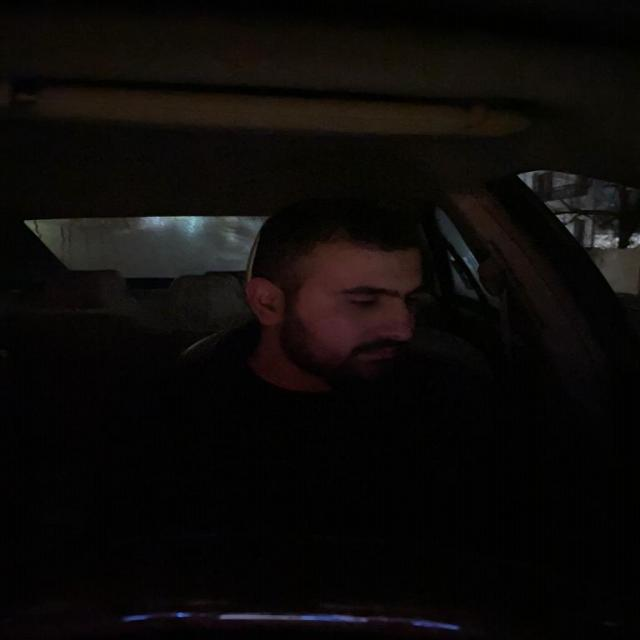drowsy: (232, 188, 434, 398)
